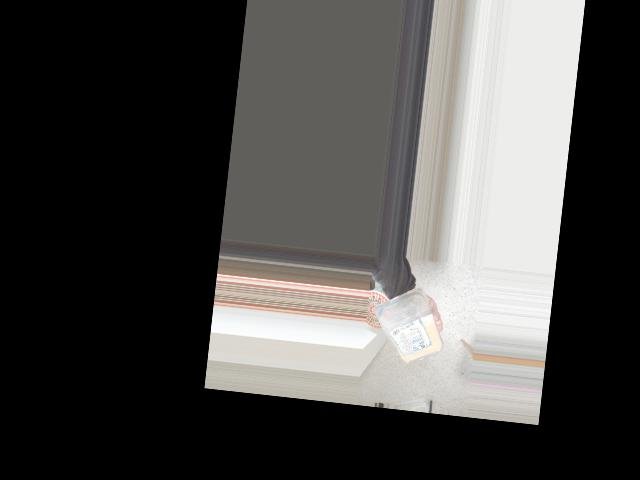cheese: (369, 288, 441, 371)
